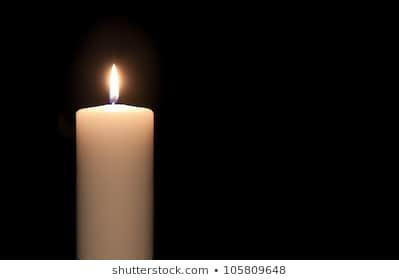fire: (104, 60, 123, 105)
